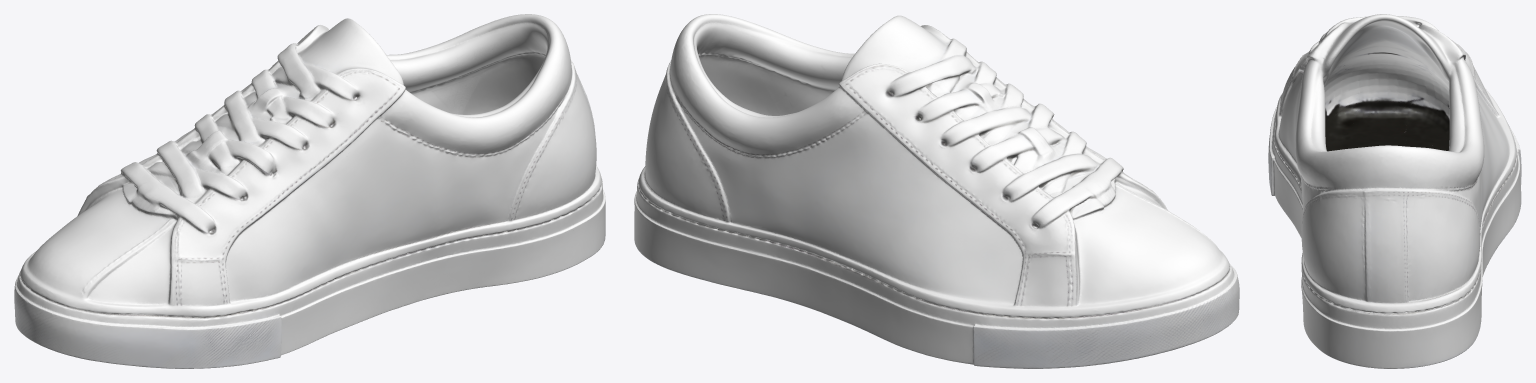
File: Meshy_AI_White_Sneaker_3D_0620143413_image-to-3d-texture.glb
3 renders of one model, left to right at view 1: azimuth 30°, elevation 25°; view 2: azimuth 150°, elevation 25°; view 3: azimuth 270°, elevation 25°, orthographic. The views are drawn at different scales.
Size of the model in its own units: 1.9 by 0.8142 by 0.7664.
1 material, 1 textured.
